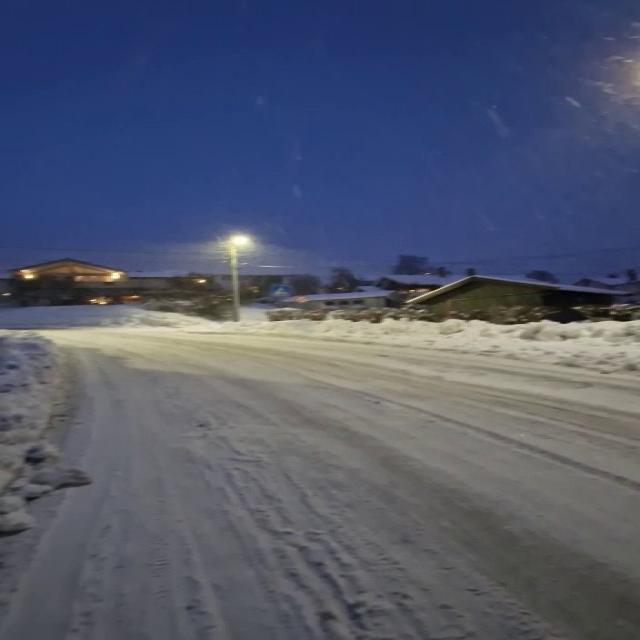path: (3, 330, 638, 640)
